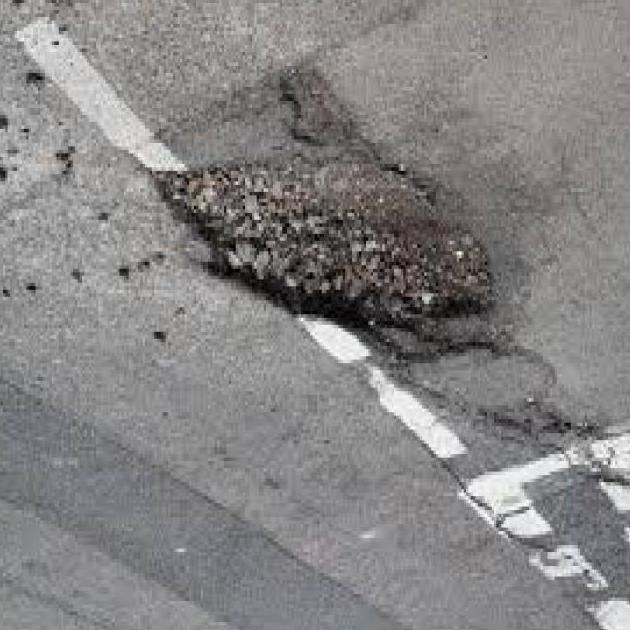pothole: (127, 141, 517, 350)
